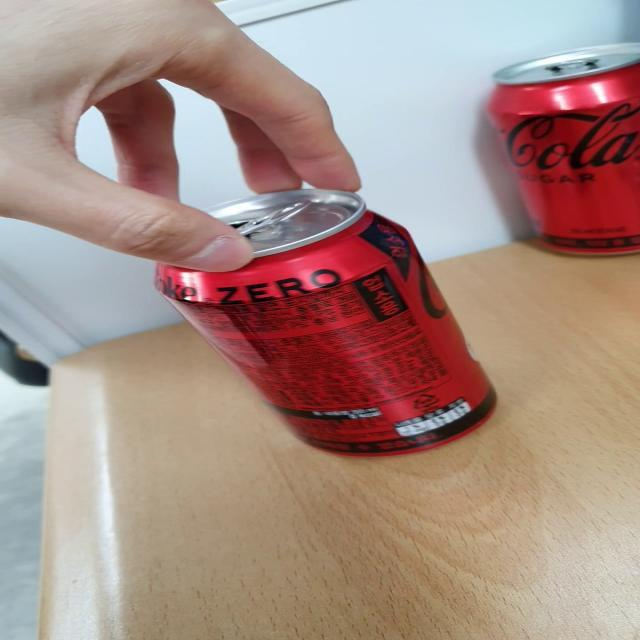coca-cola: (132, 177, 530, 465), (464, 38, 640, 264)
